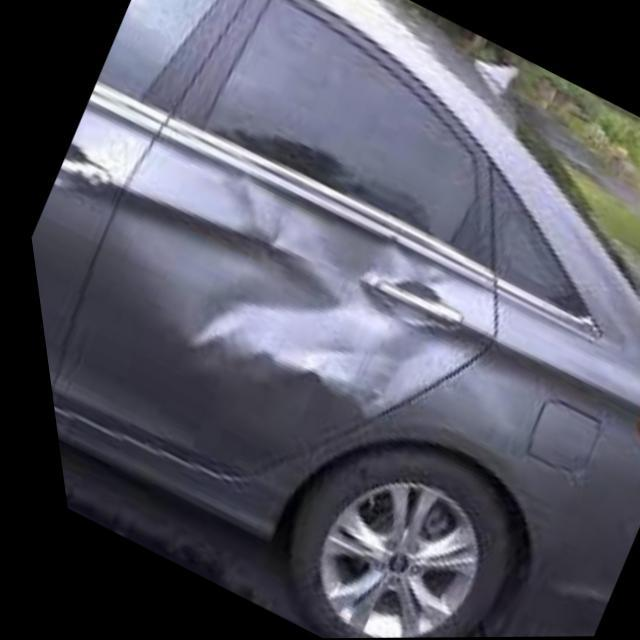dent: (174, 169, 506, 422)
